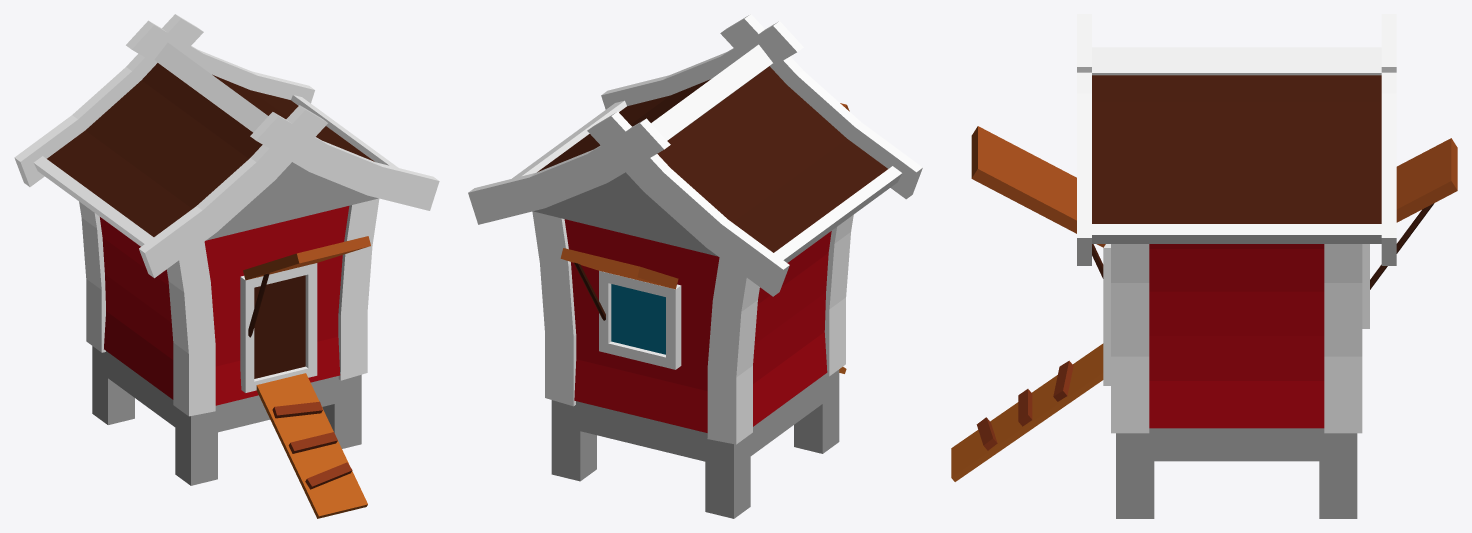
The model's file is Chicken_House.fbx.
3 views of the same model, side by side, from view 1: azimuth 30°, elevation 25°; view 2: azimuth 150°, elevation 25°; view 3: azimuth 270°, elevation 25° (orthographic). The views are drawn at different scales.
Visible parts, largest first — view 1: Roof.001; view 2: Roof.001; view 3: Roof.001.
Boxes of the visible parts, x1,y1,x2,y2 form: Roof.001: (14, 14, 439, 518); Roof.001: (468, 14, 922, 518); Roof.001: (951, 14, 1457, 518).
Size of the model in its own units: 164 by 194 by 200.
